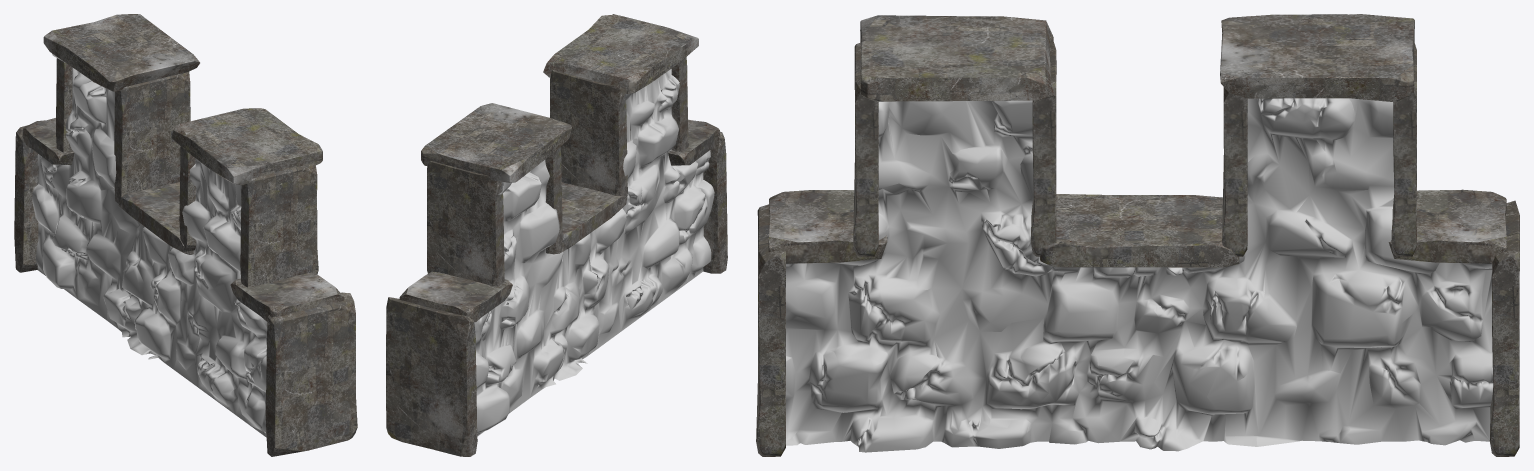
The model's file is SM_Crenel_A_01.fbx.
3 views of the same model, side by side, from view 1: azimuth 30°, elevation 25°; view 2: azimuth 150°, elevation 25°; view 3: azimuth 270°, elevation 25° (orthographic). The views are drawn at different scales.
Visible parts, largest first — view 1: SM_Crenel_A_01_LOD0; view 2: SM_Crenel_A_01_LOD0; view 3: SM_Crenel_A_01_LOD0.
Part boxes in pixels (left/top/right/bottom): SM_Crenel_A_01_LOD0: left=14, top=14, right=357, bottom=456; SM_Crenel_A_01_LOD0: left=386, top=14, right=727, bottom=456; SM_Crenel_A_01_LOD0: left=756, top=14, right=1519, bottom=456.
Bounding box in the file's own units: 85.04 × 416 × 231.
